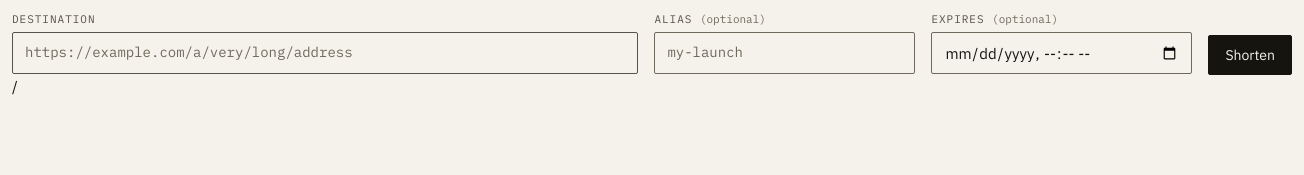
LinkComposer › sends trimmed values, then shows the new link with a copy action and clears the form
Type "  https://example.com/x  " into the field labelled "Destination" at (325, 53), box x1=12 y1=32 x2=638 y2=74
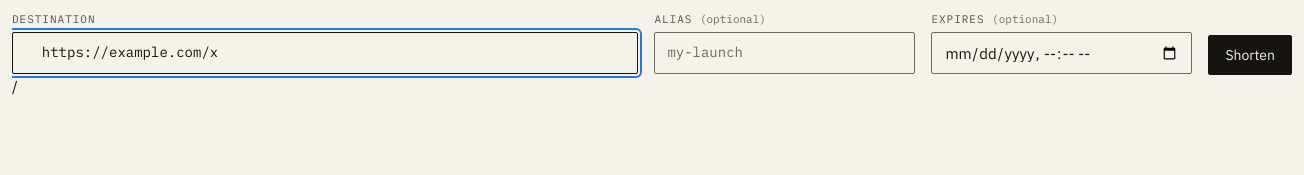
Type " my-launch " into the field labelled "Alias (optional)" at (785, 53), box x1=654 y1=32 x2=915 y2=74
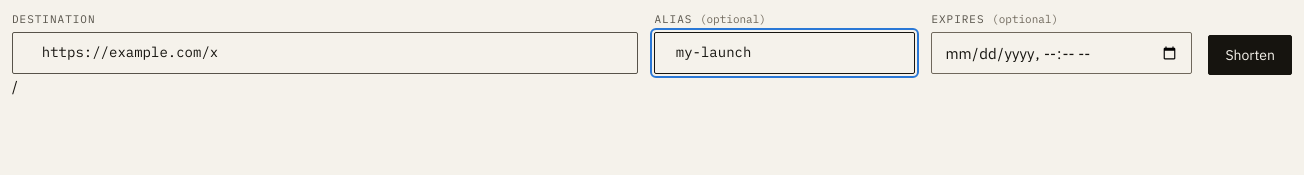
Click the button "Shorten" at (1250, 55), box x1=1208 y1=35 x2=1292 y2=75
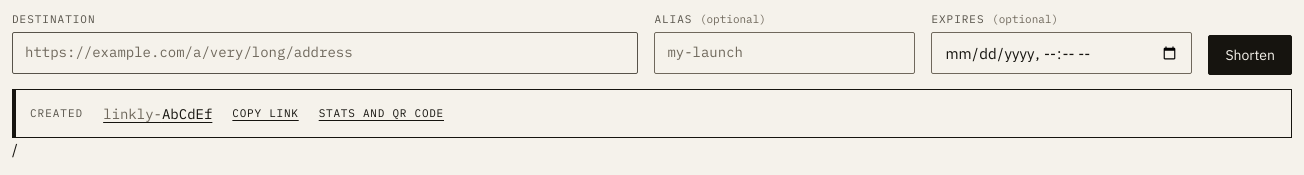
Now the text "Created" shows "linkly-AbCdEf", box x1=12 y1=89 x2=1292 y2=138
Now the field labelled "Destination" is empty, box x1=12 y1=32 x2=638 y2=74
